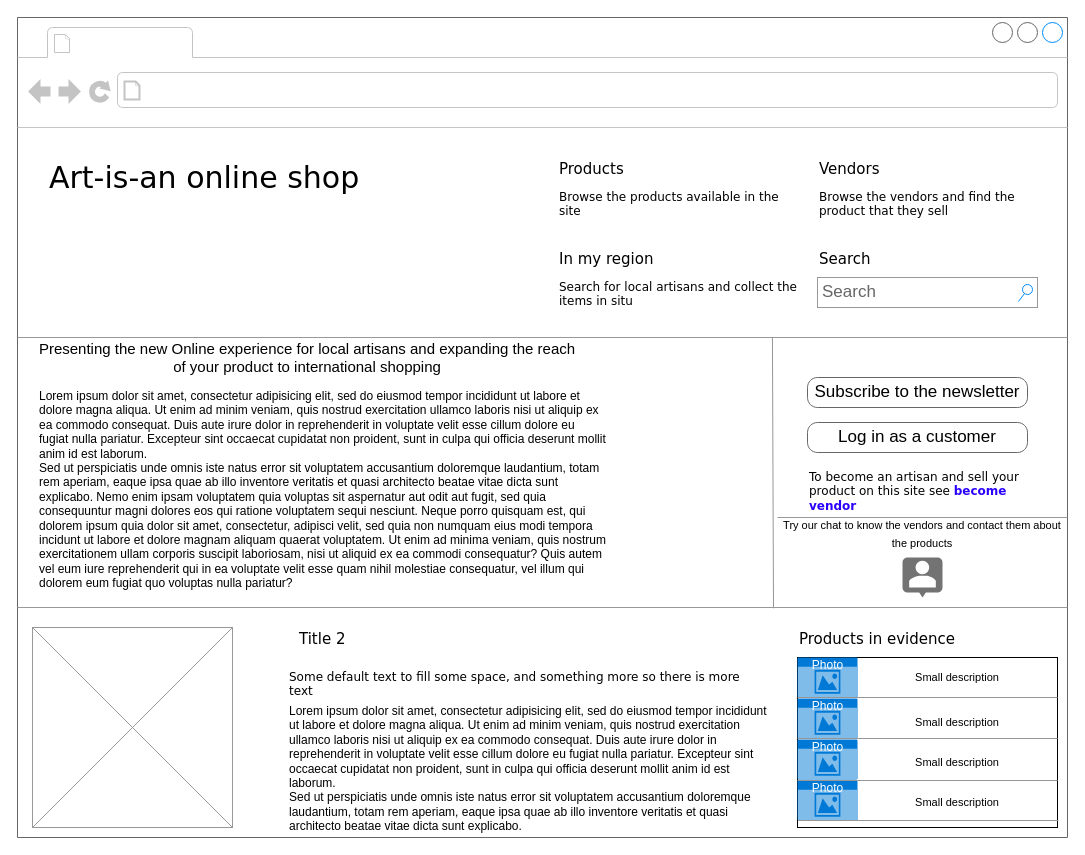
Some shapes in this 1085 by 855 pixel diagram are drawn without their labels. Each missing label, with the centre of its shape:
Artisanonli...: point (132, 42)
https://www.artisanonlineshop.com: point (272, 90)
